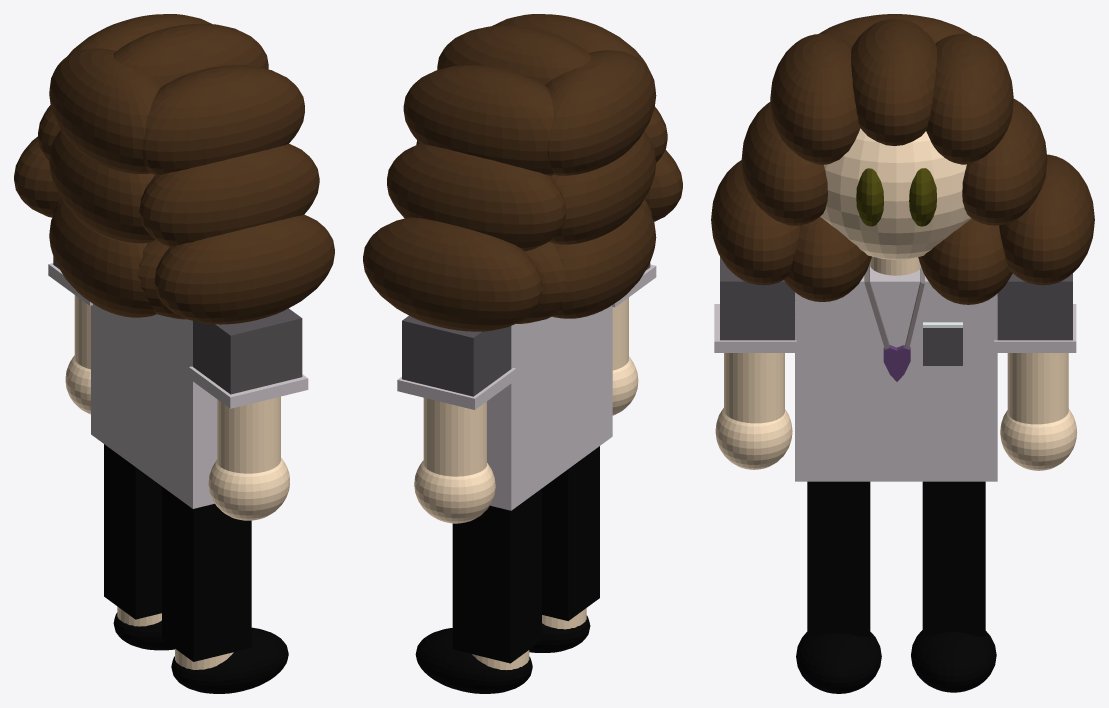
The model's file is Julia.fbx.
3 renders of one model, left to right at view 1: azimuth 30°, elevation 25°; view 2: azimuth 150°, elevation 25°; view 3: azimuth 270°, elevation 25°, orthographic.
Parts seen in each view (by area): view 1: Cube, Sphere.009, Sphere.005, Cube.008, Sphere.004, Sphere.012, Cube.007, Sphere.015, Cube.001, Sphere.016, Sphere.013, Sphere.011 (+8 smaller); view 2: Cube, Sphere.010, Cube.007, Sphere.007, Sphere.006, Sphere.012, Cube.008, Sphere.014, Sphere.016, Cube.002, Sphere.013, Sphere.011 (+8 smaller); view 3: Cube, Sphere, Cube.008, Cube.007, Sphere.005, Sphere.011, Sphere.006, Sphere.010, Sphere.014, Sphere.015, Sphere.007, Sphere.009 (+15 smaller).
Boxes of the visible parts, <box> form: Cube: <box>91,304,217,508</box>; Sphere.009: <box>154,214,334,324</box>; Sphere.005: <box>142,65,304,175</box>; Cube.008: <box>162,486,251,661</box>; Sphere.004: <box>139,143,319,246</box>; Sphere.012: <box>49,48,163,173</box>; Cube.007: <box>104,444,161,619</box>; Sphere.015: <box>208,396,289,520</box>; Cube.001: <box>193,308,302,394</box>; Sphere.016: <box>49,202,156,317</box>; Sphere.013: <box>49,130,155,243</box>; Sphere.011: <box>113,23,268,85</box>; Cube: <box>487,305,612,510</box>; Sphere.010: <box>363,217,542,331</box>; Cube.007: <box>452,488,541,663</box>; Sphere.007: <box>387,143,566,251</box>; Sphere.006: <box>403,65,553,175</box>; Sphere.012: <box>544,50,656,175</box>; Cube.008: <box>542,446,599,620</box>; Sphere.014: <box>414,398,495,523</box>; Sphere.016: <box>552,203,656,318</box>; Cube.002: <box>402,315,511,396</box>; Sphere.013: <box>549,132,656,244</box>; Sphere.011: <box>437,25,591,84</box>; Cube: <box>795,266,997,481</box>; Sphere: <box>820,128,971,259</box>; Cube.008: <box>807,481,870,636</box>; Cube.007: <box>922,481,985,636</box>; Sphere.005: <box>770,33,860,164</box>; Sphere.011: <box>851,19,936,145</box>; Sphere.006: <box>926,33,1013,164</box>; Sphere.010: <box>999,154,1094,285</box>; Sphere.014: <box>1000,353,1077,470</box>; Sphere.015: <box>715,353,792,469</box>; Sphere.007: <box>962,99,1047,225</box>; Sphere.009: <box>711,160,800,285</box>.
Size of the model in its own units: 232 by 695 by 379.
